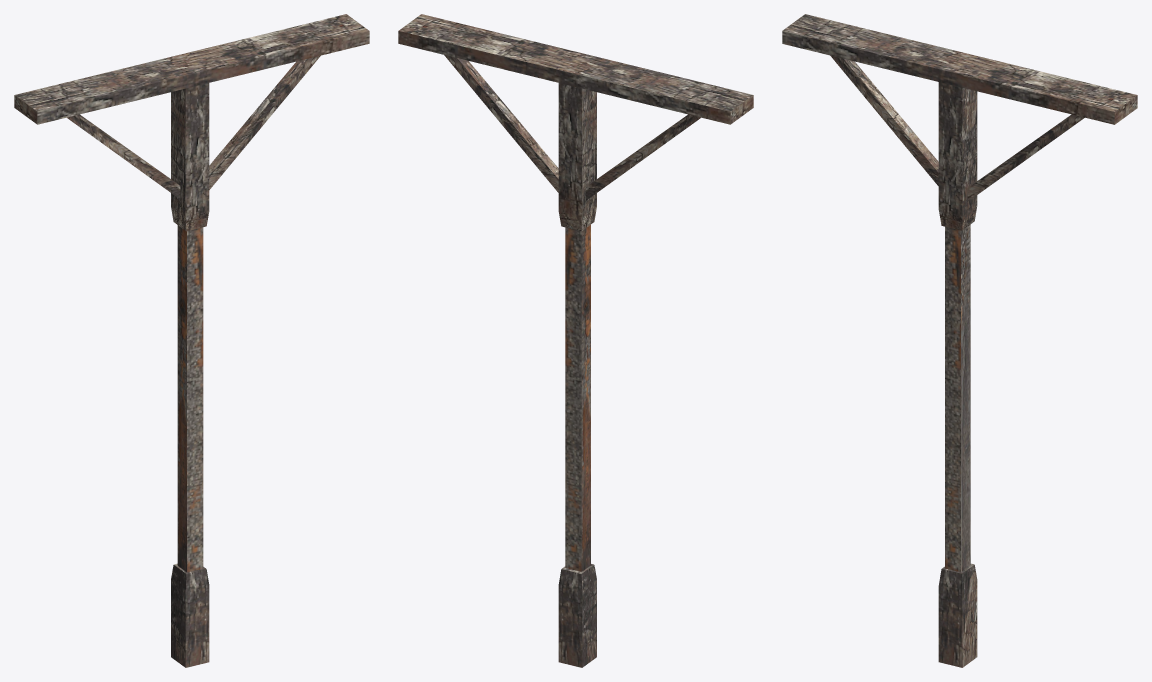
File: WoodPost_v2_M2.gltf
3 renders of one model, left to right at view 1: azimuth 30°, elevation 25°; view 2: azimuth 150°, elevation 25°; view 3: azimuth 330°, elevation 25°, orthographic.
Parts seen in each view (by area): view 1: WoodPost_v2_M2(Clone); view 2: WoodPost_v2_M2(Clone); view 3: WoodPost_v2_M2(Clone).
Part boxes in pixels (box(x1,y1,x2,y2)): WoodPost_v2_M2(Clone): box(14, 14, 369, 667); WoodPost_v2_M2(Clone): box(398, 14, 753, 667); WoodPost_v2_M2(Clone): box(782, 14, 1137, 667).
Size of the model in its own units: 1.46 by 2.51 by 0.1756.
Materials: 1 (1 with a texture image).
